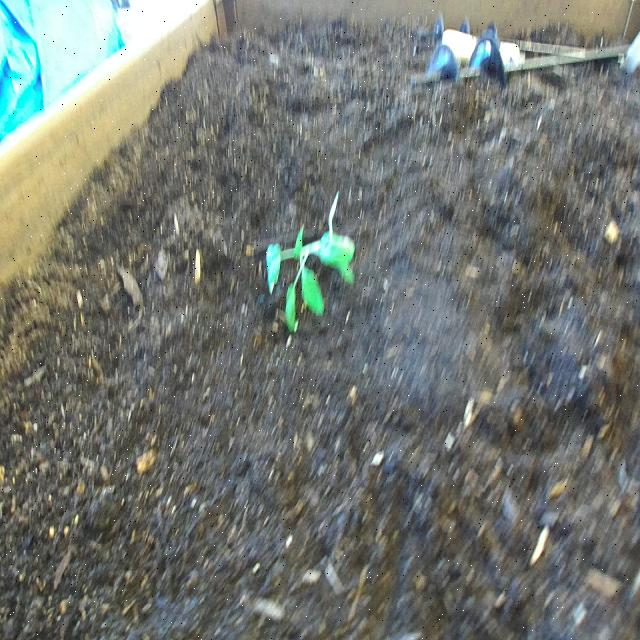Healthy: (260, 181, 364, 343)
